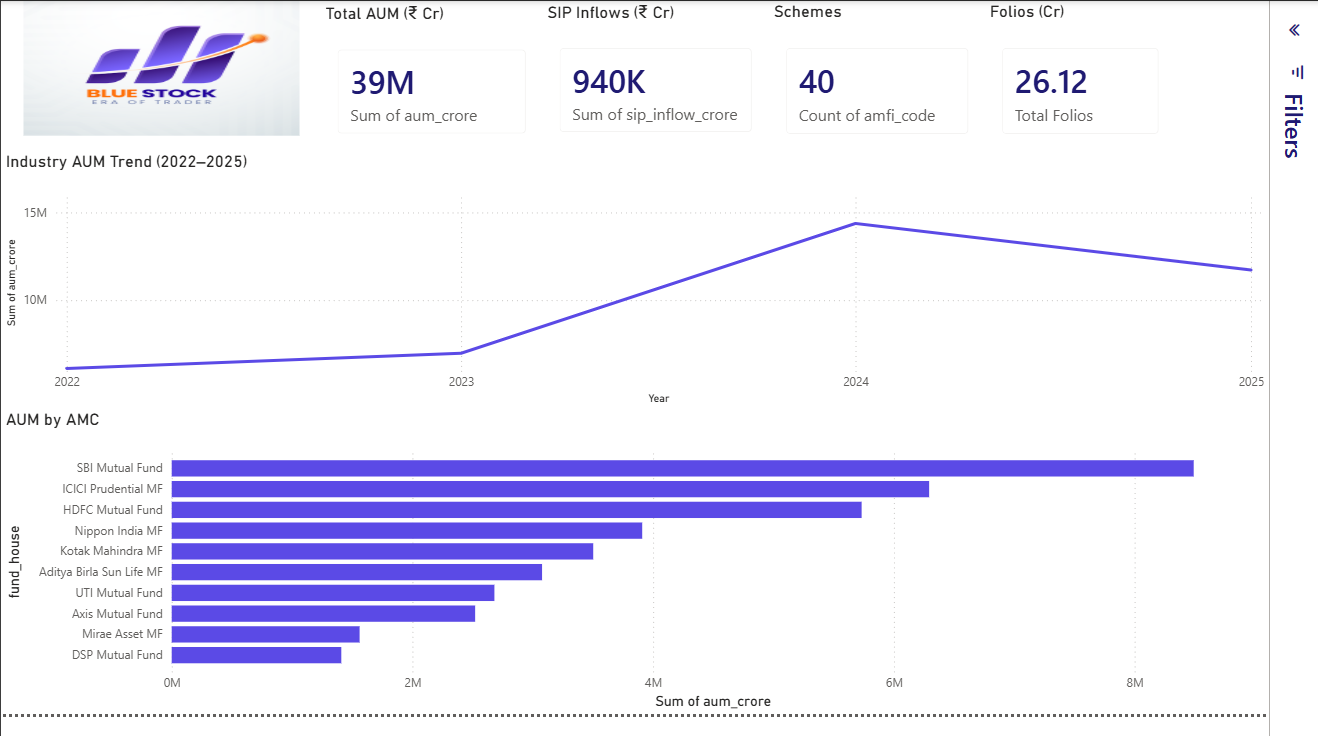

What the dashboard file says about the page in this screenshot:
{"tool":"powerbi","page":{"name":"Industry Overview","canvas":[1280,720],"ordinal":0},"visuals":[{"type":"cardVisual","title":"Total AUM (₹ Cr)","fields":{"Data":["Sum(AUM_By_Fund_House.aum_crore)"]},"box":[322.5,1.5,224.1,149.9],"z":0},{"type":"cardVisual","title":"SIP Inflows (₹ Cr)","fields":{"Data":["Sum(Monthly_SIP_Inflows.sip_inflow_crore)"]},"box":[546.6,0,228.6,149.9],"z":1000},{"type":"cardVisual","title":"Folios (Cr)","fields":{"Data":["AUM_By_Fund_House.Total Folios"]},"box":[993.3,0,192.3,151.4],"z":2000},{"type":"cardVisual","title":"Schemes","fields":{"Data":["Count(Fund_Master.amfi_code)"]},"box":[775.3,0,218,151.4],"z":3000},{"type":"lineChart","title":"Industry AUM Trend (2022–2025)","fields":{"Category":["AUM_By_Fund_House.date.Variation.Date Hierarchy.Year"],"Y":["Sum(AUM_By_Fund_House.aum_crore)"]},"box":[0,151.4,1279.5,260.4],"z":4000},{"type":"clusteredBarChart","title":"AUM by AMC","fields":{"Category":["AUM_By_Fund_House.fund_house"],"Y":["Sum(AUM_By_Fund_House.aum_crore)"]},"box":[0,411.9,1279.5,307.4],"z":5000},{"type":"shape","box":[10.6,3,302.8,133.3],"z":6000},{"type":"image","box":[22.7,0,278.6,136.3],"z":7005}]}

Visuals, with their boxes in screenshot pixels (x1, y1, x2, y2), scaled from the page's 1280x720 canvas onto the 1318x736 screenshot:
"Total AUM (₹ Cr)" cardVisual: box(332, 2, 563, 155)
"SIP Inflows (₹ Cr)" cardVisual: box(563, 0, 798, 153)
"Folios (Cr)" cardVisual: box(1023, 0, 1221, 155)
"Schemes" cardVisual: box(798, 0, 1023, 155)
"Industry AUM Trend (2022–2025)" lineChart: box(0, 155, 1317, 421)
"AUM by AMC" clusteredBarChart: box(0, 421, 1317, 735)
shape: box(11, 3, 323, 139)
image: box(23, 0, 310, 139)
